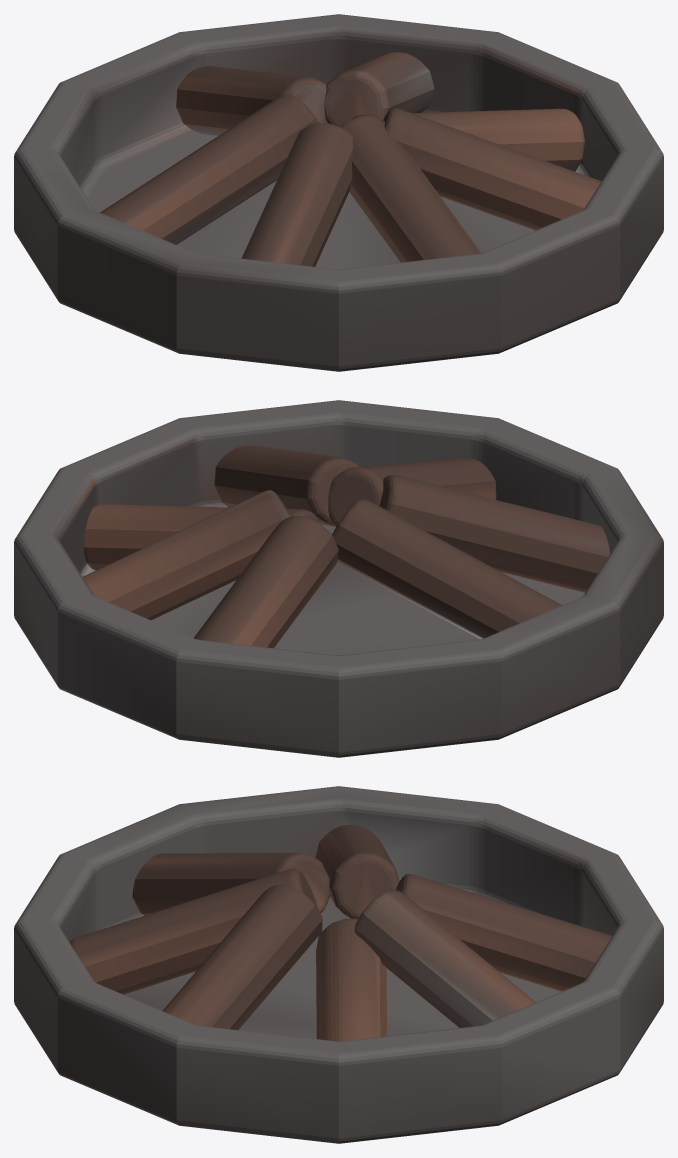
Rendered from Fogueira.fbx.
3 renders of one model, top to bottom at view 1: azimuth 30°, elevation 25°; view 2: azimuth 150°, elevation 25°; view 3: azimuth 270°, elevation 25°, orthographic.
Parts seen in each view (by area): view 1: Fogueira; view 2: Fogueira; view 3: Fogueira.
Boxes of the visible parts, box(x1,y1,x2,y2) form: Fogueira: box(14, 14, 663, 371); Fogueira: box(14, 400, 663, 757); Fogueira: box(14, 786, 663, 1143).
Size of the model in its own units: 200 by 47.23 by 200.
